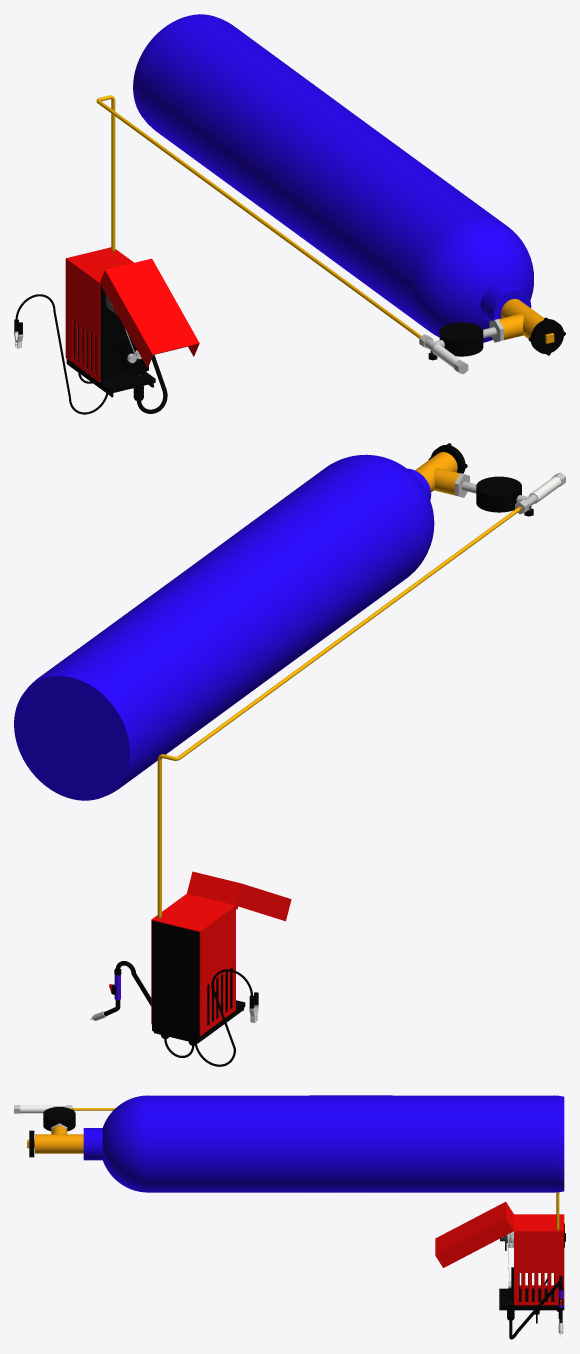
Rendered from gmaw.fbx.
3 views of the same model, one above another, from view 1: azimuth 30°, elevation 25°; view 2: azimuth 150°, elevation 25°; view 3: azimuth 270°, elevation 25° (orthographic). The views are drawn at different scales.
Parts seen in each view (by area): view 1: Body53, Body55, Body20, Body10, Body76, Body11, Body8, Body56, Body54, Body64, Body60, Body57 (+1 smaller); view 2: Body53, Body54, Body10, Body9, Body20, Body76, Body55, Body64, Body8, Body80; view 3: Body53, Body10, Body55, Body20, Body54, Body57, Body8, Body56, Body64.
Part boxes in pixels (box(x1,y1,x2,y2)): Body53: box(139, 18, 503, 329); Body55: box(412, 218, 533, 342); Body20: box(100, 258, 199, 367); Body10: box(65, 247, 133, 382); Body76: box(97, 100, 421, 338); Body11: box(100, 285, 127, 379); Body8: box(66, 352, 155, 400); Body56: box(480, 281, 531, 321); Body54: box(133, 14, 232, 128); Body64: box(439, 322, 483, 348); Body60: box(528, 317, 565, 355); Body57: box(501, 299, 544, 338); Body53: box(43, 459, 424, 785); Body54: box(14, 669, 138, 800); Body10: box(151, 893, 235, 1035); Body9: box(152, 920, 199, 1035); Body20: box(187, 871, 291, 921); Body76: box(179, 507, 520, 758); Body55: box(326, 454, 434, 575); Body64: box(476, 476, 521, 504); Body8: box(152, 1000, 245, 1043); Body80: box(157, 760, 161, 915); Body53: box(148, 1095, 553, 1192); Body10: box(514, 1214, 564, 1305); Body55: box(102, 1095, 148, 1192); Body20: box(435, 1201, 513, 1267); Body54: box(553, 1095, 564, 1192); Body57: box(35, 1134, 83, 1153); Body8: box(499, 1288, 564, 1320); Body56: box(83, 1128, 102, 1160); Body64: box(43, 1107, 75, 1125).
Size of the model in its own units: 1548 by 2290 by 4326.
